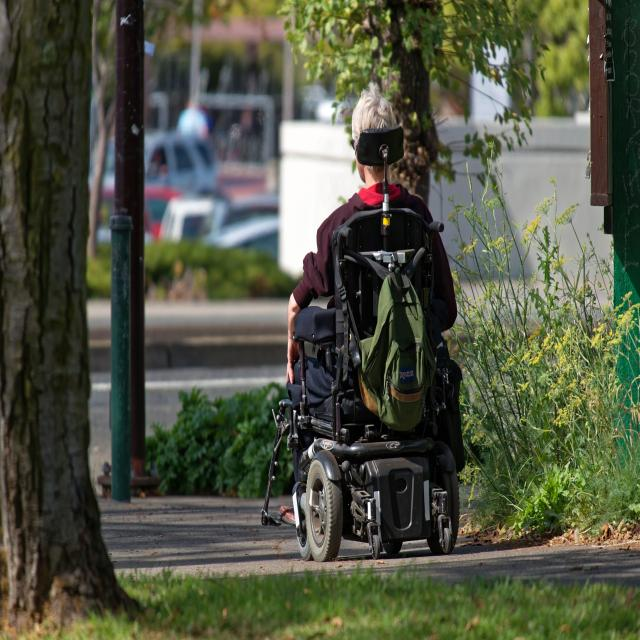wheelchairs: (262, 124, 471, 555)
